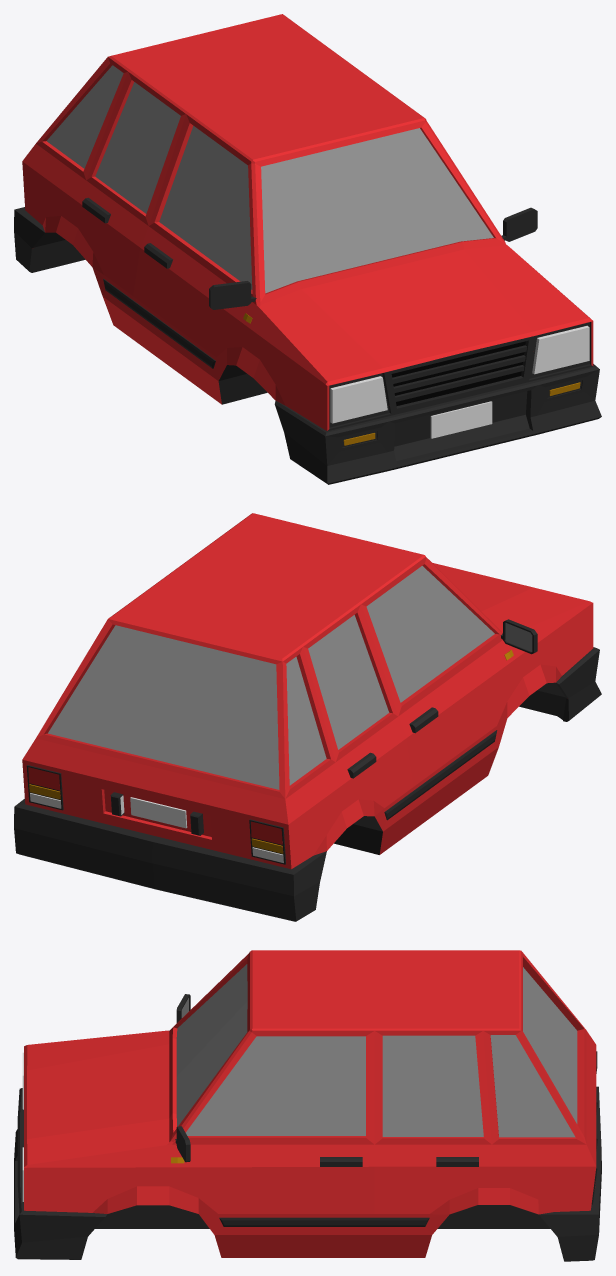
The model's file is chassis.glb.
3 views of the same model, one above another, from view 1: azimuth 30°, elevation 25°; view 2: azimuth 150°, elevation 25°; view 3: azimuth 270°, elevation 25° (orthographic). The views are drawn at different scales.
Visible parts, largest first — view 1: Car; view 2: Car; view 3: Car.
Part boxes in pixels (x1=…): Car: x1=14, y1=14, x2=601, y2=484; Car: x1=14, y1=513, x2=601, y2=921; Car: x1=14, y1=950, x2=601, y2=1261.
Size of the model in its own units: 1.13 by 0.7361 by 1.88.
